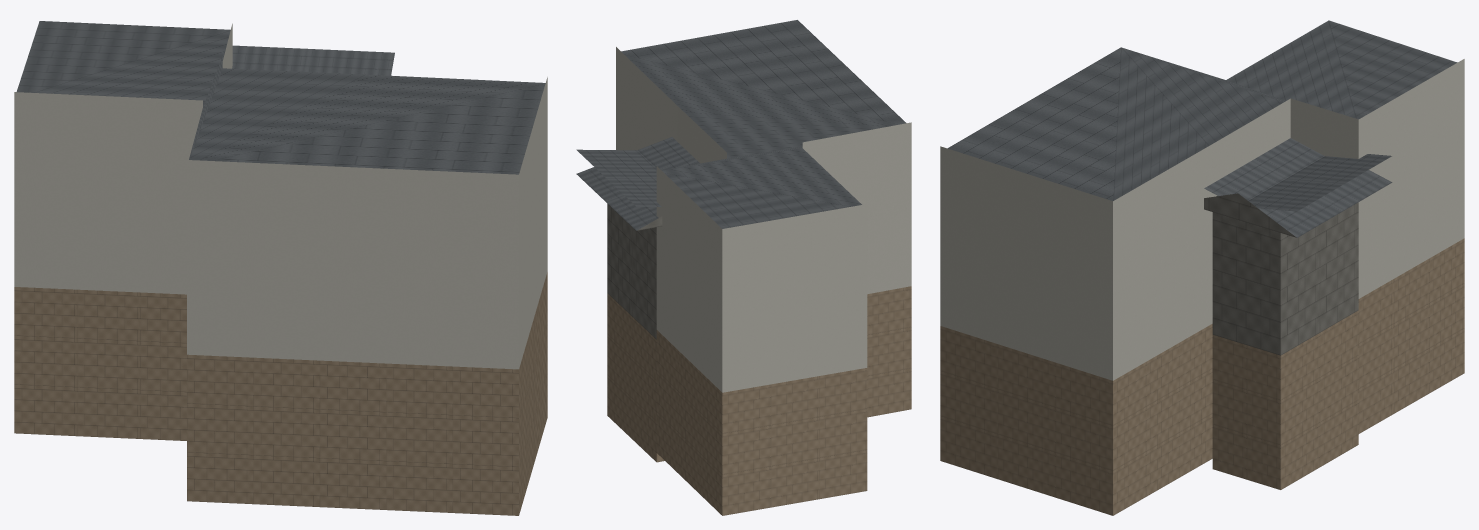
File: bld_c42_-48_465.gltf
The picture shows the model from 3 angles, left to right: view 1: azimuth 30°, elevation 25°; view 2: azimuth 150°, elevation 25°; view 3: azimuth 270°, elevation 25°; orthographic projection. The views are drawn at different scales.
Parts seen in each view (by area): view 1: bld_c42_-48_465; view 2: bld_c42_-48_465; view 3: bld_c42_-48_465.
Boxes of the visible parts, box(x1,y1,x2,y2) form: bld_c42_-48_465: box(14, 21, 547, 515); bld_c42_-48_465: box(576, 20, 911, 515); bld_c42_-48_465: box(940, 20, 1464, 515).
Bounding box in the file's own units: 15.16 × 12.28 × 17.94.
Materials: 6 (6 with a texture image).
